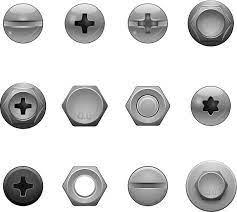screw: (62, 85, 108, 127), (125, 85, 170, 127)
